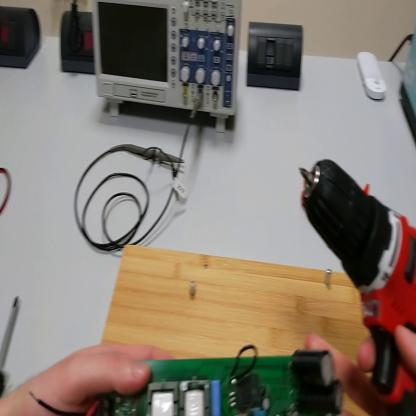electric screwdriver: (299, 160, 416, 415)
hand: (6, 343, 163, 414), (306, 326, 416, 416)
high voltage board: (35, 346, 350, 416)
oscilloscope: (92, 2, 243, 135)
oscilloscope probe tip: (125, 137, 186, 165)
screwdriver-: (2, 297, 20, 398)
socket: (2, 5, 43, 69), (60, 11, 97, 78)
welder station: (399, 26, 416, 148)
working area: (103, 244, 378, 414)
